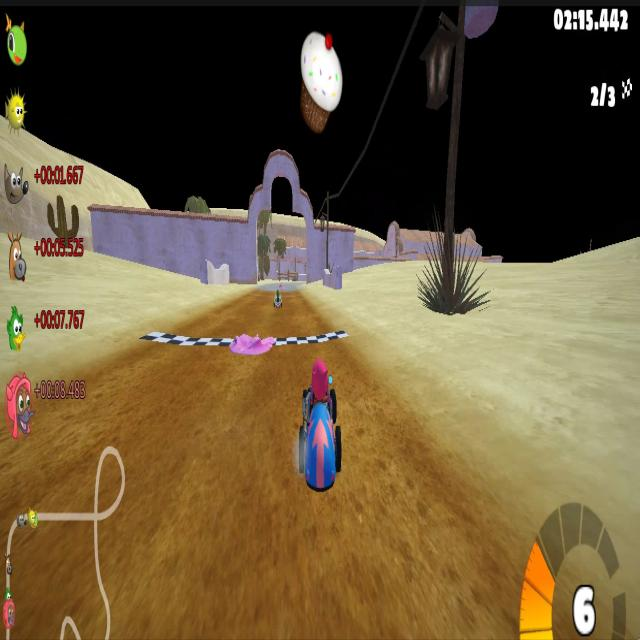enemy_kart: (273, 282, 283, 312)
obstacle: (230, 328, 277, 366)
player_kart: (296, 358, 344, 487)
track: (142, 502, 496, 640), (5, 401, 138, 640), (112, 353, 292, 497), (347, 370, 432, 495), (254, 306, 320, 325), (270, 260, 296, 285), (186, 314, 230, 328), (250, 273, 267, 302), (225, 302, 249, 316), (286, 286, 309, 300)
